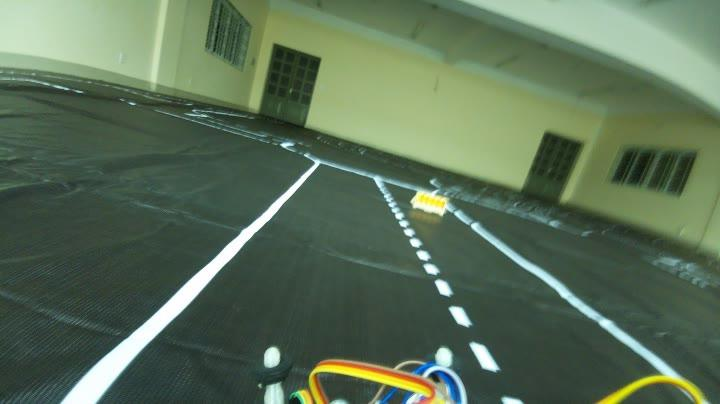roadblock: (408, 184, 454, 222)
